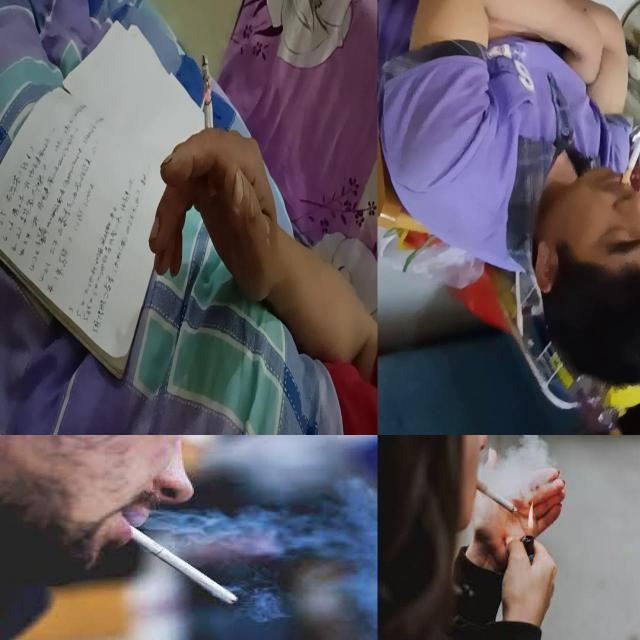smoke: (119, 519, 238, 606), (202, 54, 216, 198), (474, 479, 518, 514), (620, 126, 640, 184)
